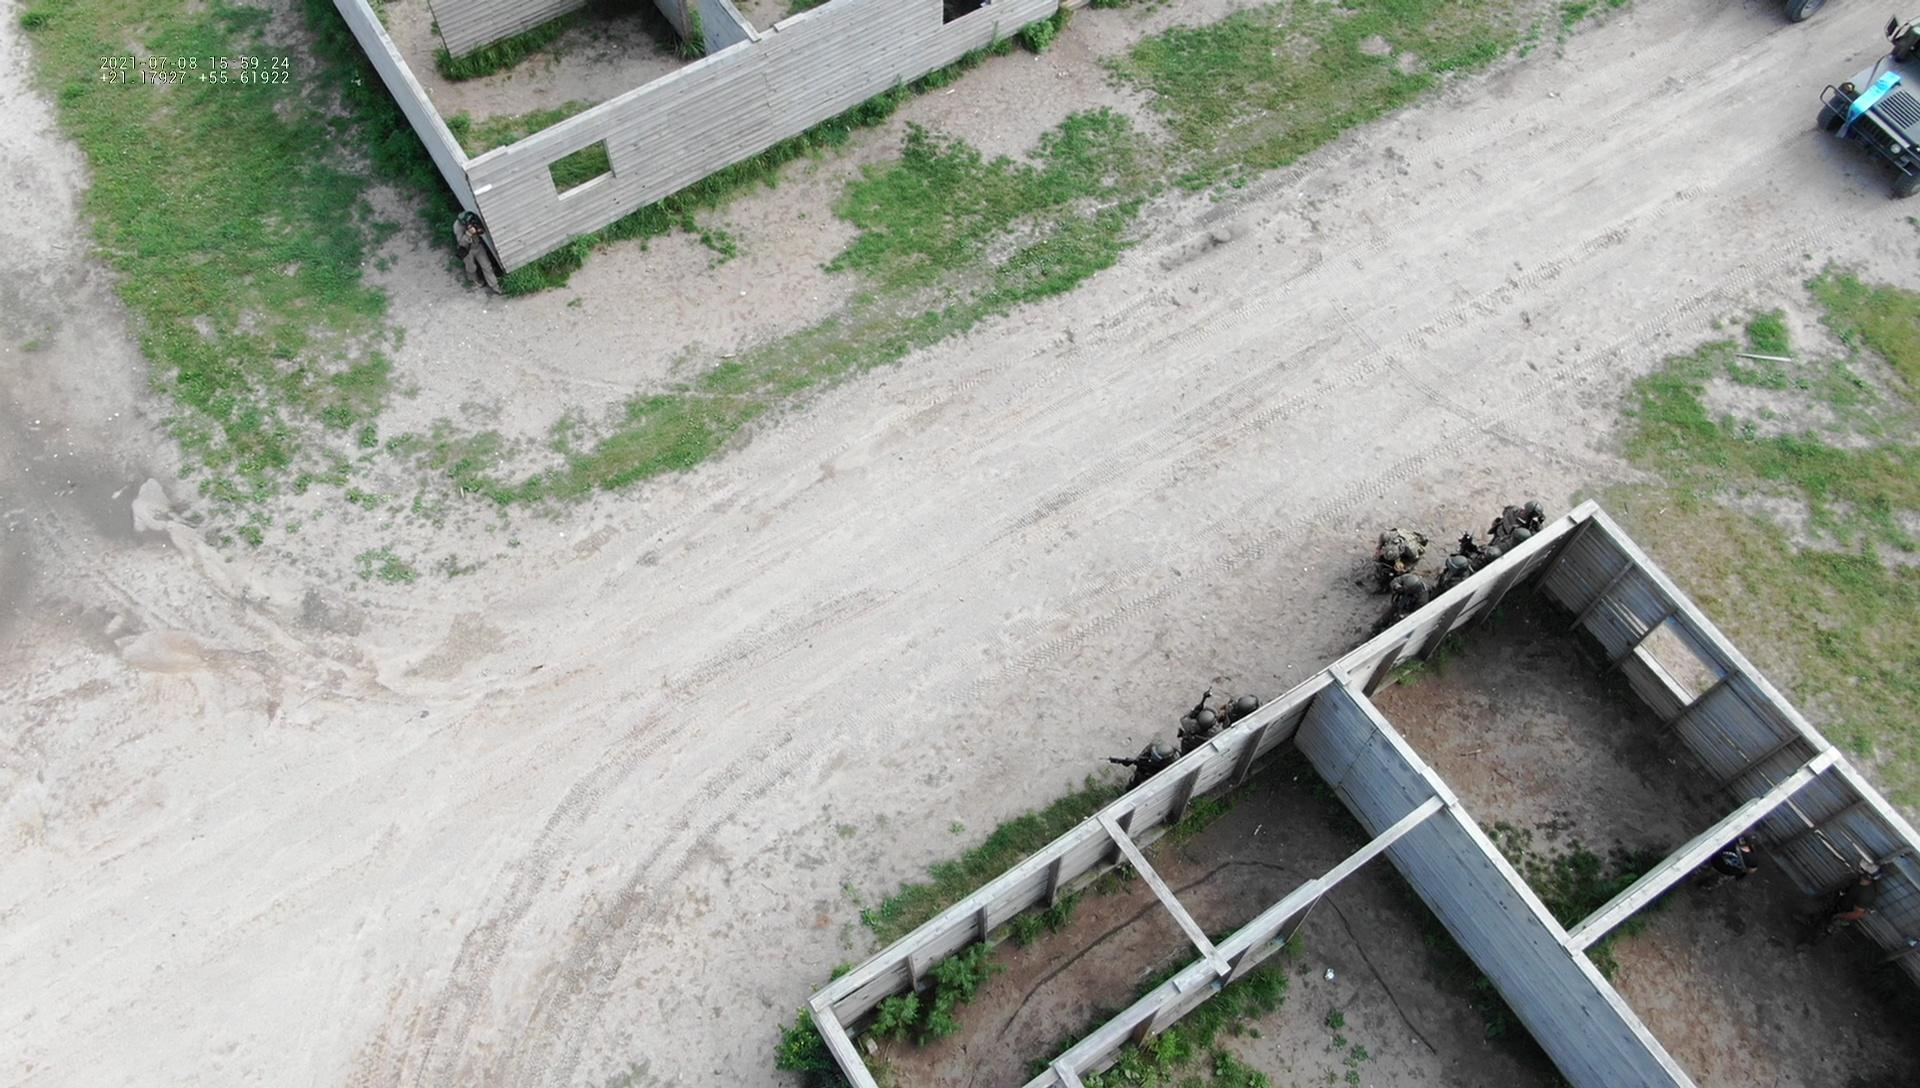Soldier: (1364, 516, 1433, 579), (1484, 491, 1548, 543), (1112, 740, 1179, 783), (1174, 688, 1222, 739), (1437, 529, 1476, 587), (1378, 568, 1428, 612)
